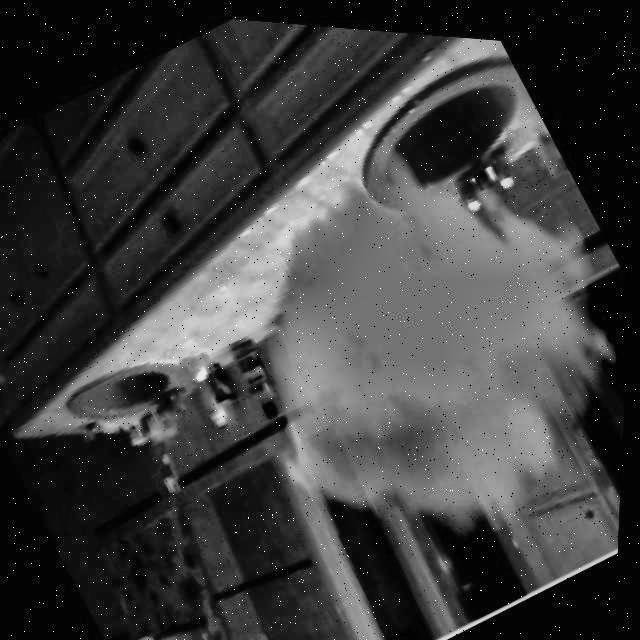Smoke: (170, 74, 631, 597)
